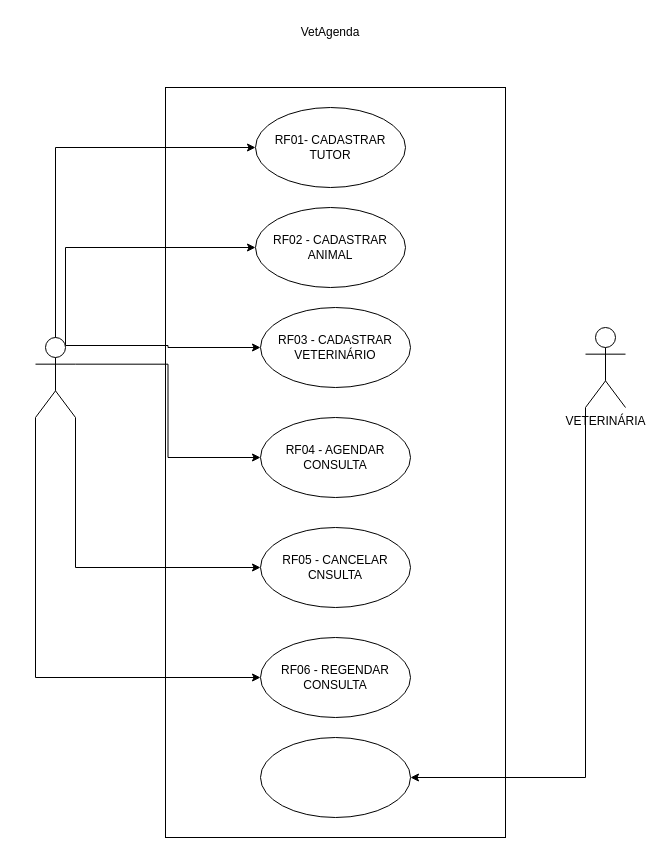
Some shapes in this 663 by 855 pixel diagram are drawn without their labels. Each missing label, with the box of its shape:
RF07 - CONSULTAR AGENDA: (260, 736, 410, 818)
SECRETÁRIA: (34, 336, 76, 418)
